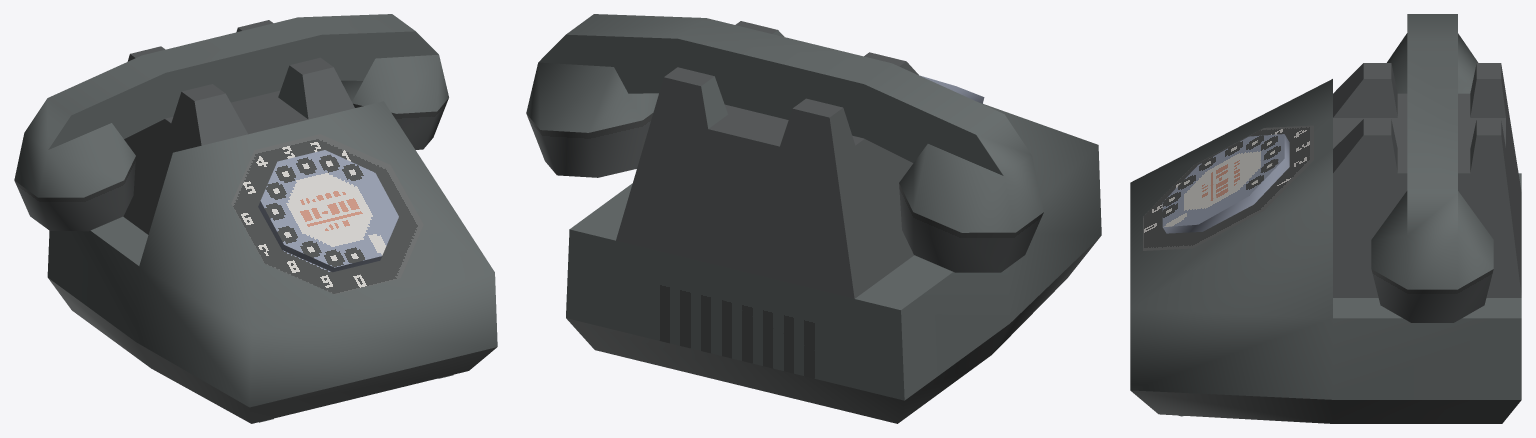
File: 01ca_Telephone.glb
3 renders of one model, left to right at view 1: azimuth 30°, elevation 25°; view 2: azimuth 150°, elevation 25°; view 3: azimuth 270°, elevation 25°, orthographic. The views are drawn at different scales.
Parts seen in each view (by area): view 1: part_0; view 2: part_0; view 3: part_0.
Boxes of the visible parts, box(x1,y1,x2,y2) form: part_0: box(14, 14, 497, 423); part_0: box(526, 14, 1101, 423); part_0: box(1130, 14, 1521, 423).
Bounding box in the file's own units: 0.2861 × 0.1745 × 0.2215.
Materials: 1 (1 with a texture image).
